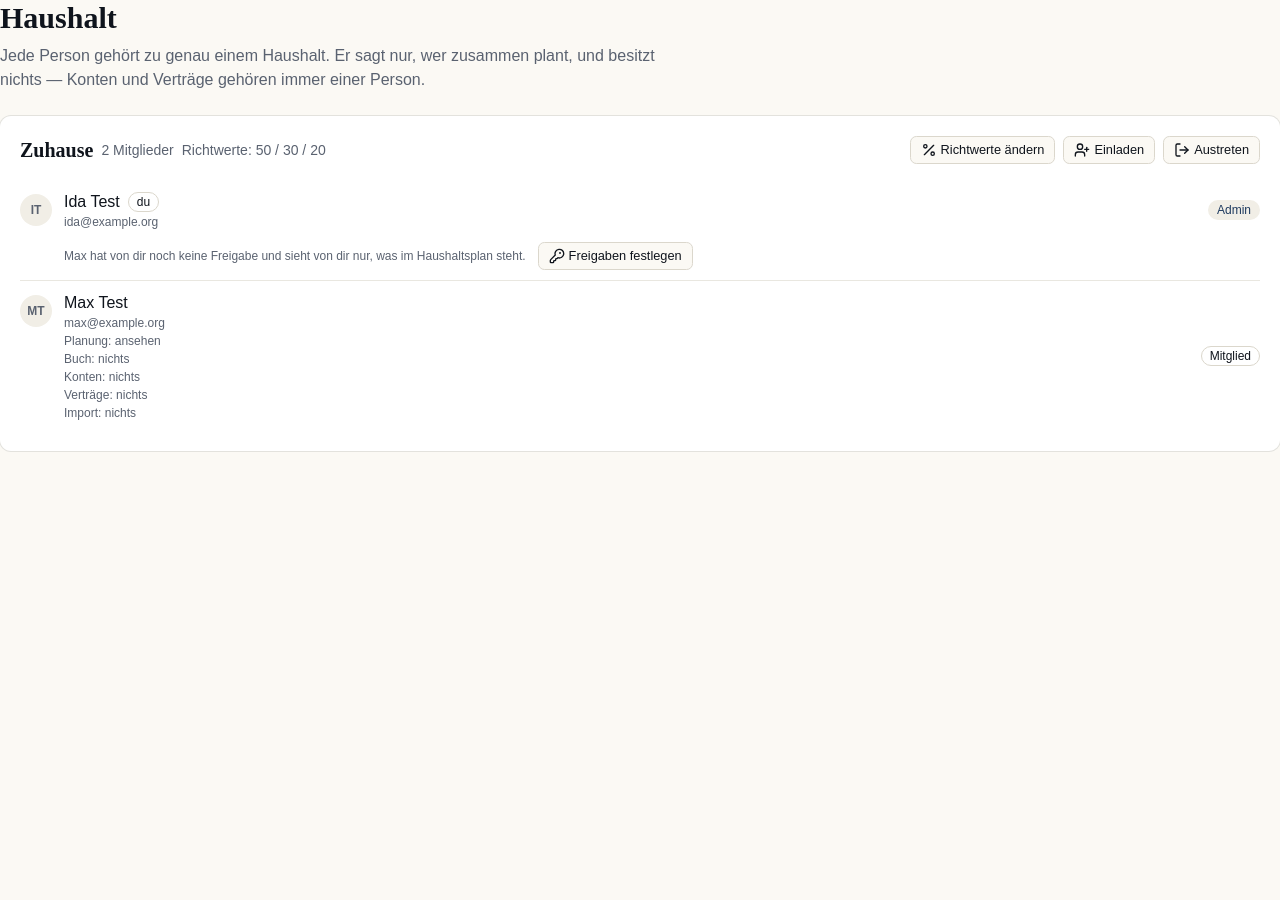
it: HouseholdPage › the only admin is told so up front and is not offered the confirm button
Click the button "Austreten": [1212, 150] box [1163,136,1260,164]
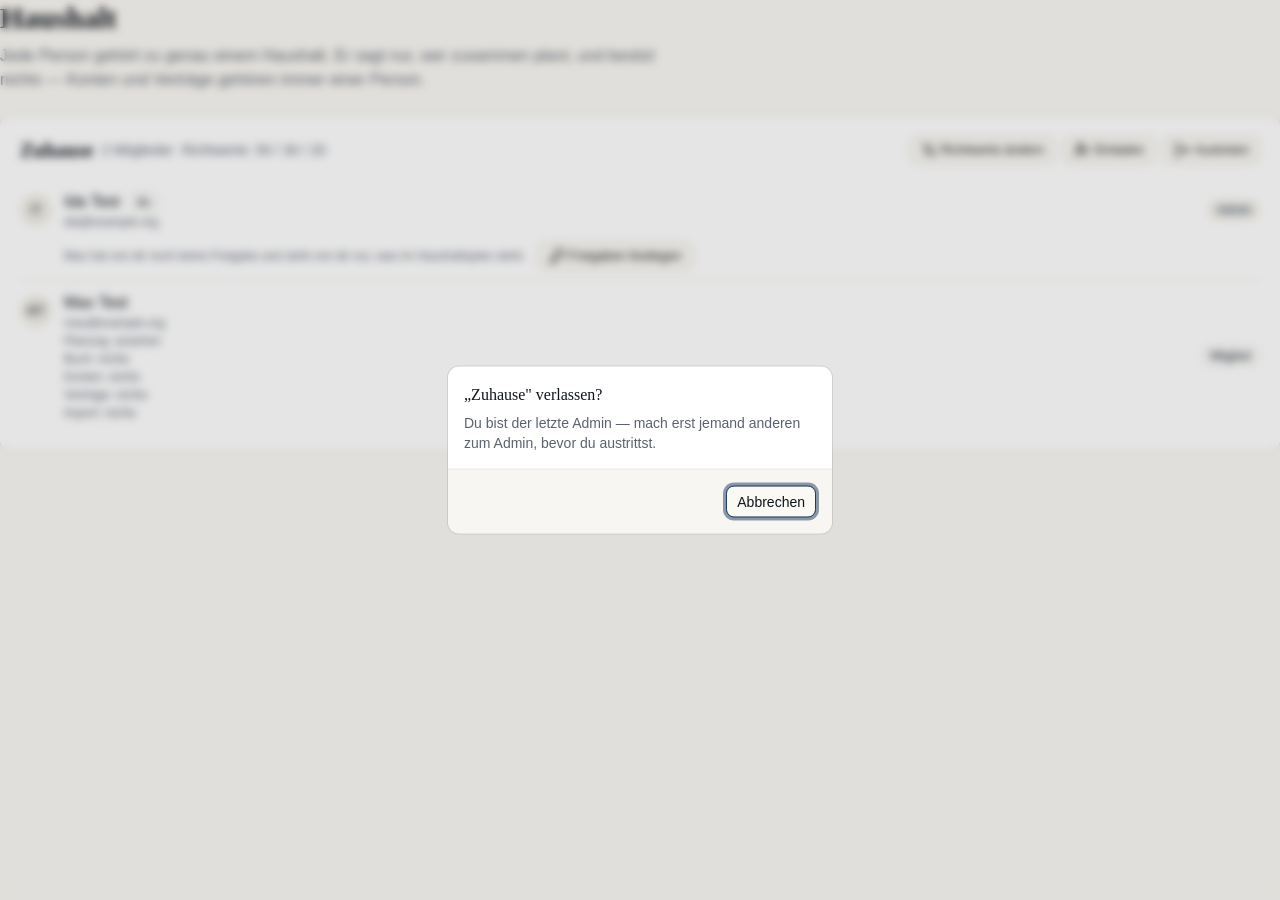
expect the text "Du bist der letzte Admin — mach erst jemand anderen zum Admin, bevor du austrittst." is shown: met, box [464,414,800,450]
expect the button "Abbrechen" is shown: met, box [726,486,816,518]
